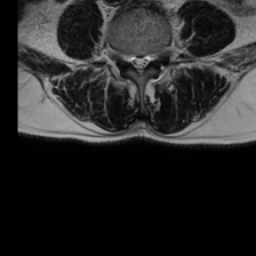CCS_stenosis: (136, 47, 143, 79)
LFS_normal: (151, 45, 159, 68)
LLS_normal: (143, 47, 151, 73)
RFS_normal: (120, 45, 128, 70)
RLS_stenosis: (128, 46, 136, 72)
